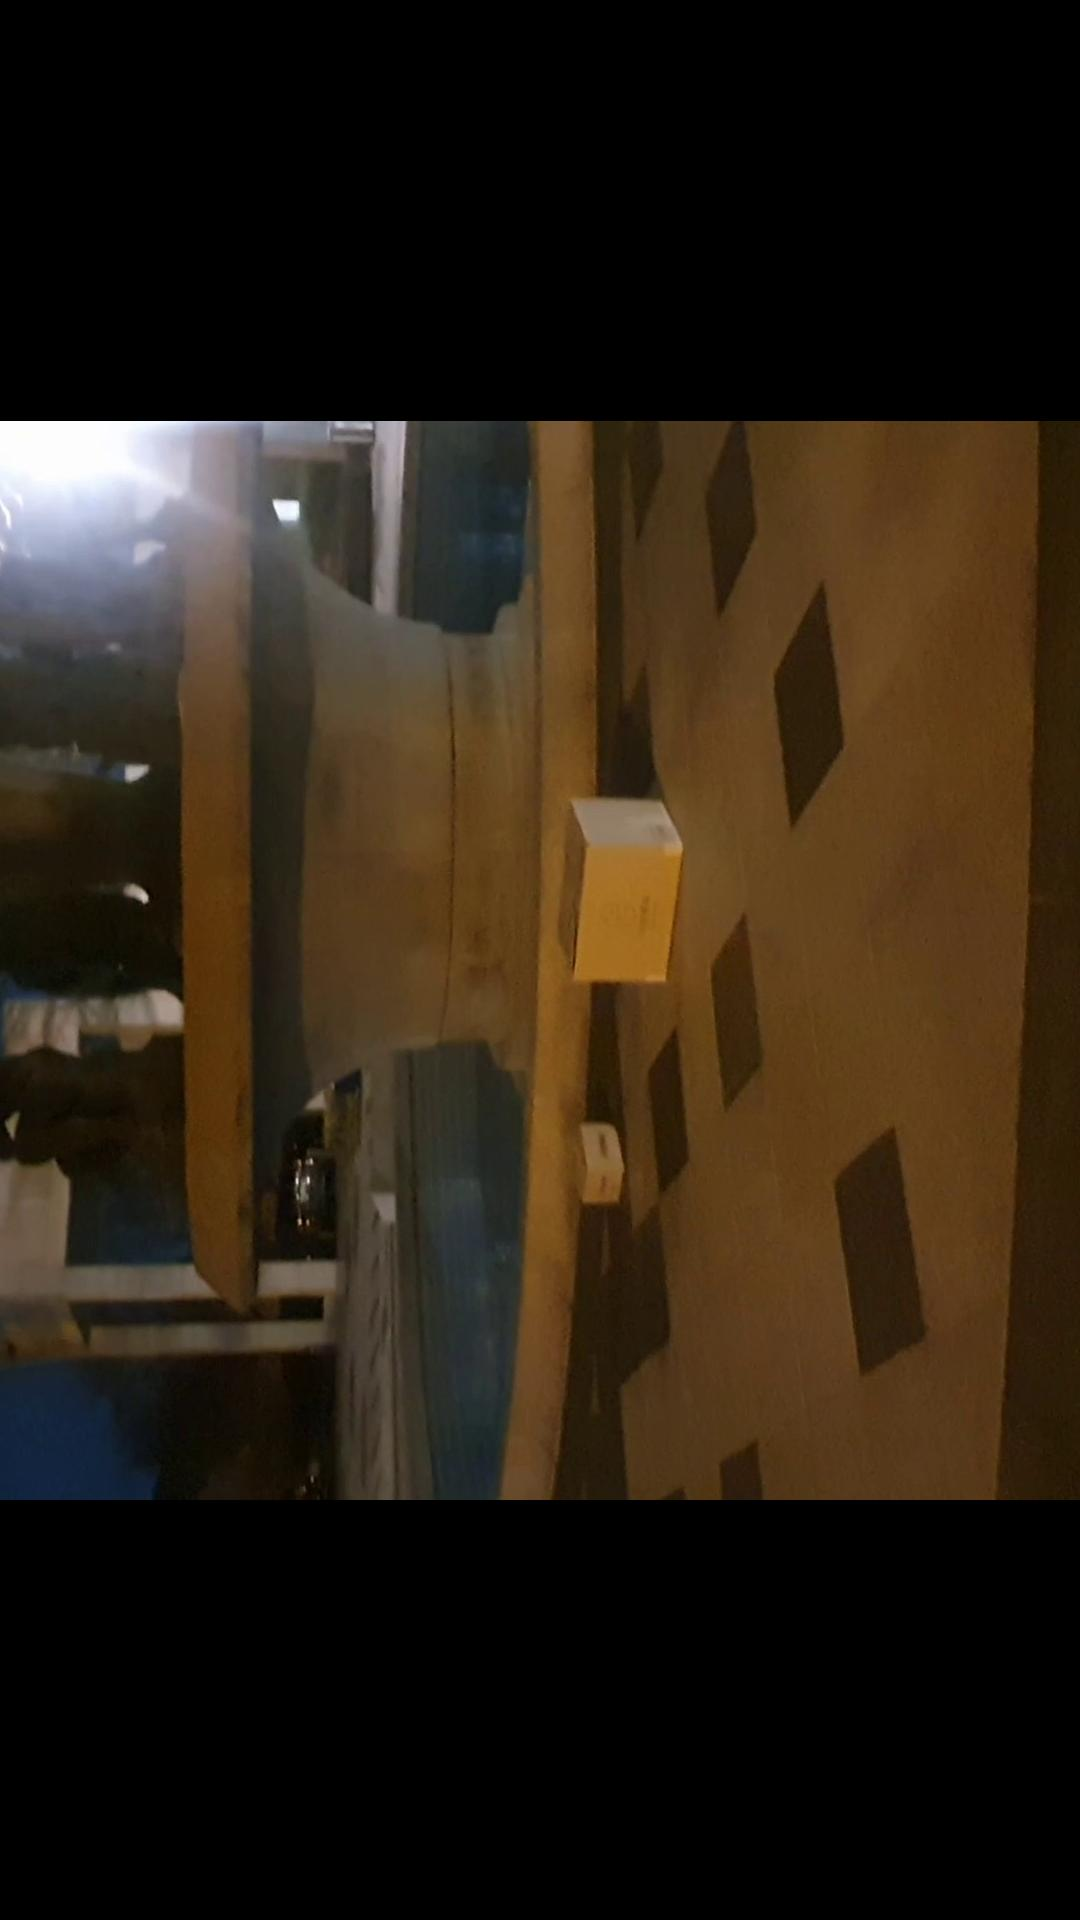Box: (550, 781, 695, 984), (564, 1120, 622, 1207)
